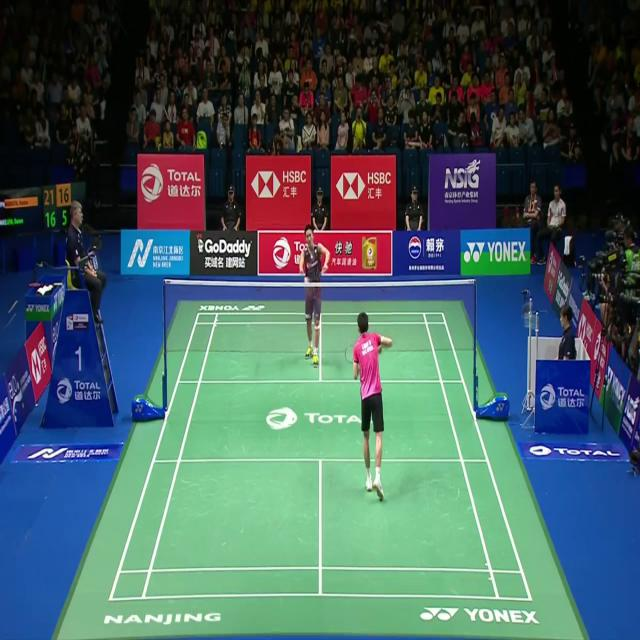Shuttlecock: (304, 275, 310, 287)
